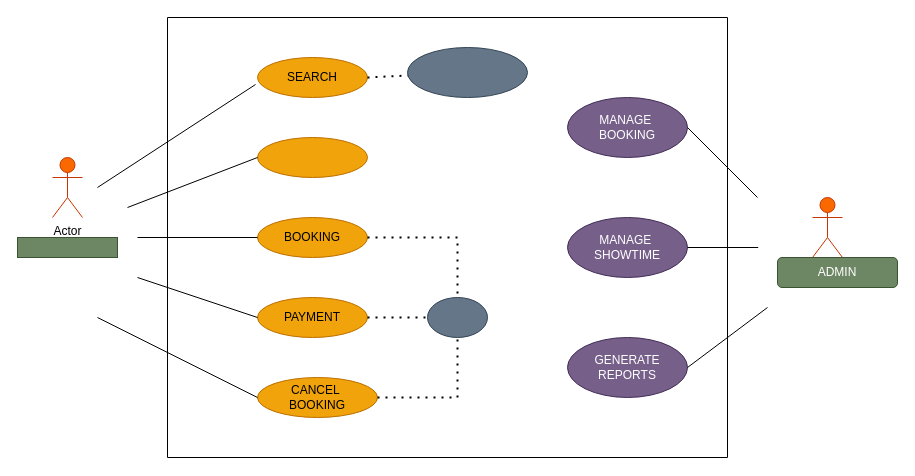
The diagram is 915 pixels wide and 476 high, and some of its shapes have lost their labels. The shapes that lost their labels are listed below. From the top down, each one's box as (x1, y1, x2, y2) in pixels, then its label:
(406, 46, 528, 98): FILTER BASED ON LANGUAGE
(256, 136, 368, 178): SHOWTIME
(16, 236, 118, 258): CUSTOMER
(426, 296, 488, 338): LOGIN
